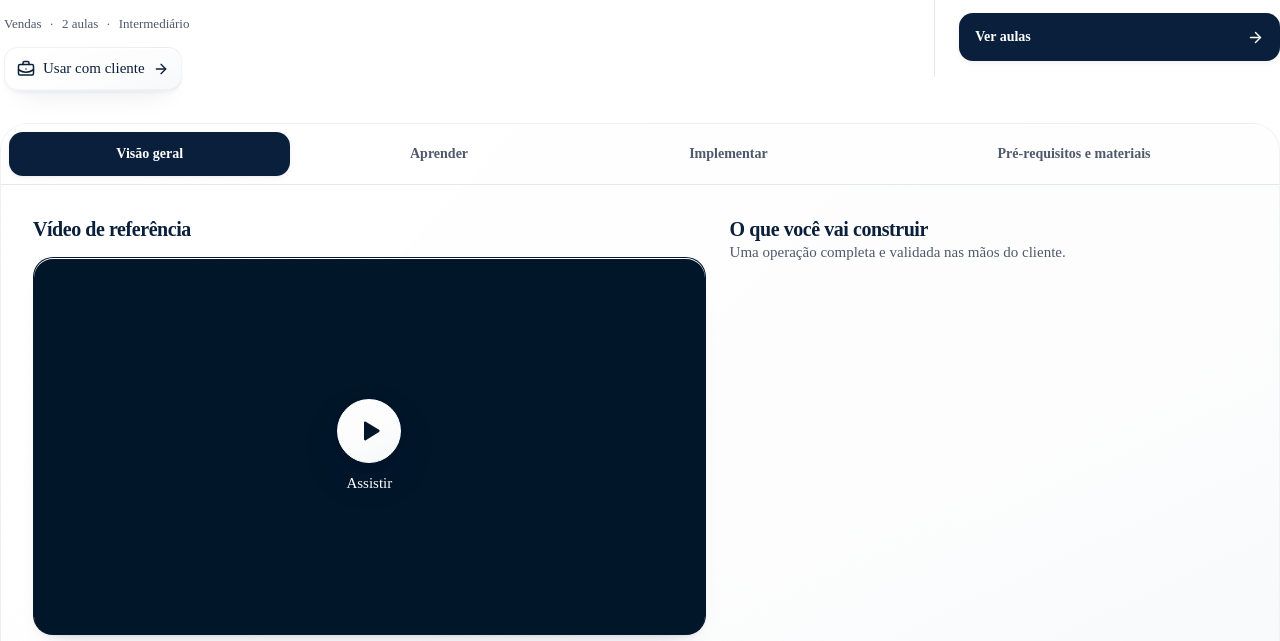
Test: Projeto guiado › marca o passo e mantém o resultado até avançar explicitamente
The image size is (1280, 641).
Click the tab "Implementar".
click(728, 154)  # box [588,132,869,176]
(page scrolled)
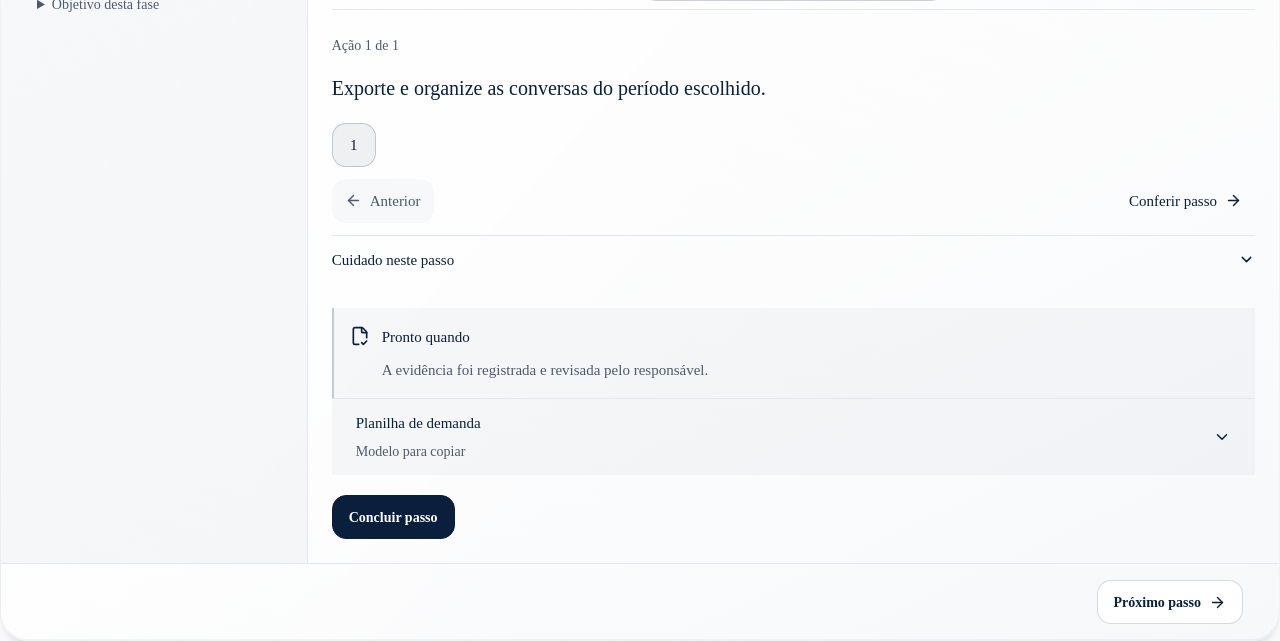
Click the button with aria-label "Concluir: Mapear o cenário atual".
click(393, 517)  # box [332,495,454,539]
(page scrolled)
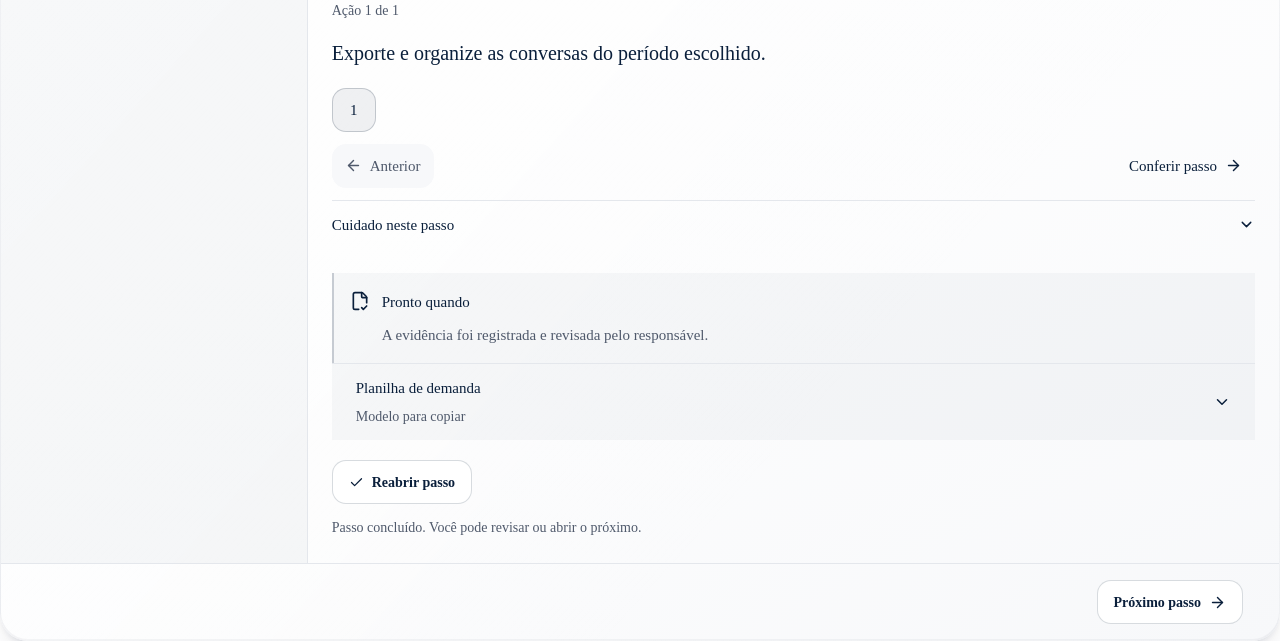
Check: the button with aria-label "Reabrir: Mapear o cenário atual" is shown, box [332,460,472,504]
Click the button "Próximo passo".
click(1170, 602)  # box [1096,580,1243,624]
(page scrolled)
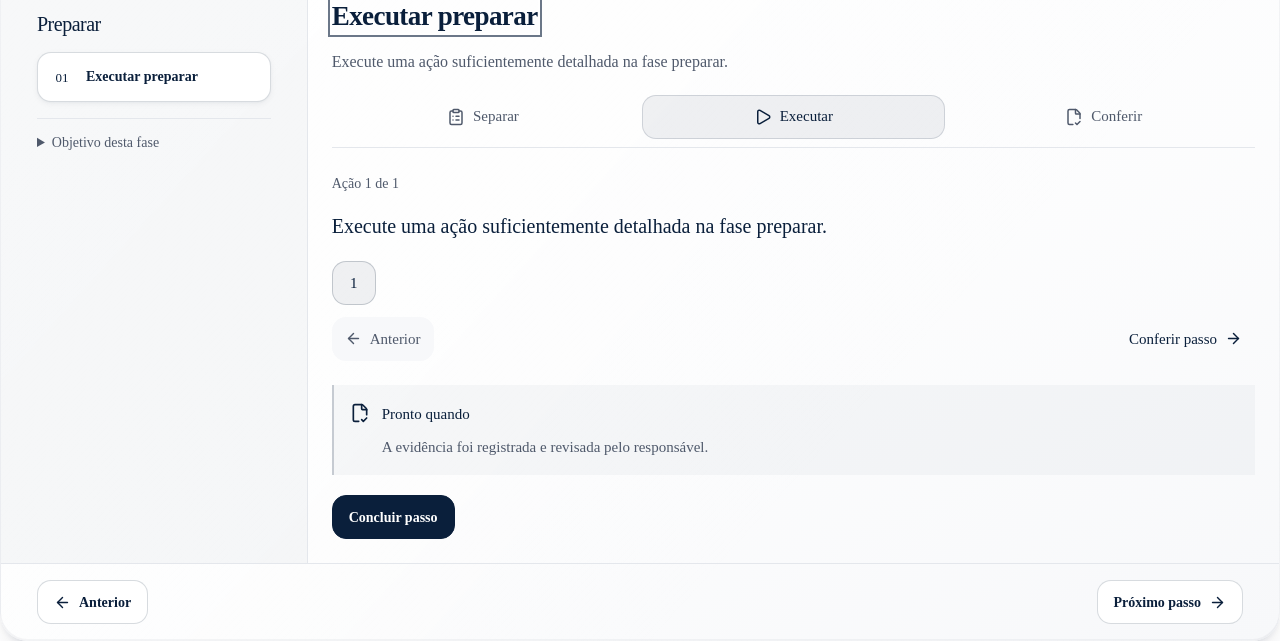
Check: the heading "Preparar" is shown, box [37,14,101,36]
